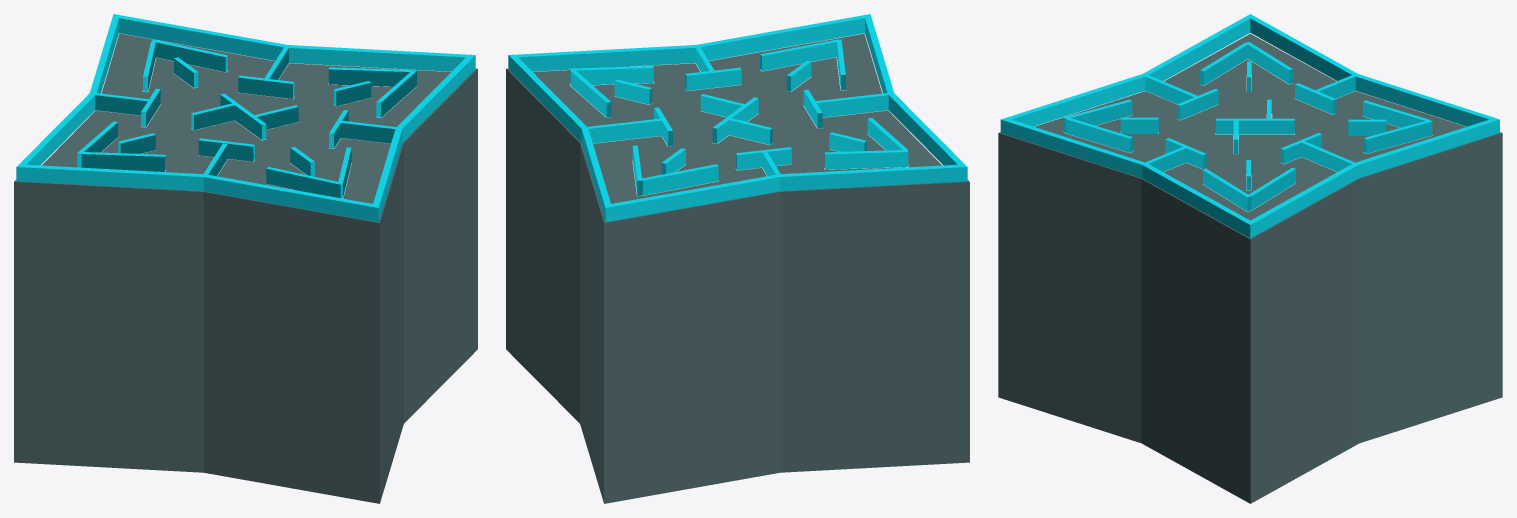
File: Level_19.FBX
3 renders of one model, left to right at view 1: azimuth 30°, elevation 25°; view 2: azimuth 150°, elevation 25°; view 3: azimuth 270°, elevation 25°, orthographic. The views are drawn at different scales.
Visible parts, largest first — view 1: Level_19; view 2: Level_19; view 3: Level_19.
Boxes of the visible parts, x1,y1,x2,y2 form: Level_19: (14,14,477,503); Level_19: (506,14,969,503); Level_19: (998,14,1502,503).
Bounding box in the file's own units: 317 × 193 × 317.
